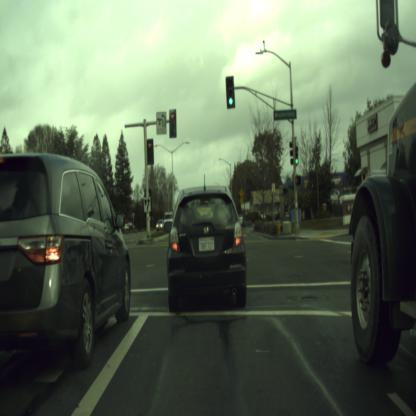Green: (226, 76, 233, 106), (295, 146, 298, 164)
RedLeft: (169, 109, 176, 137), (146, 139, 154, 163)
